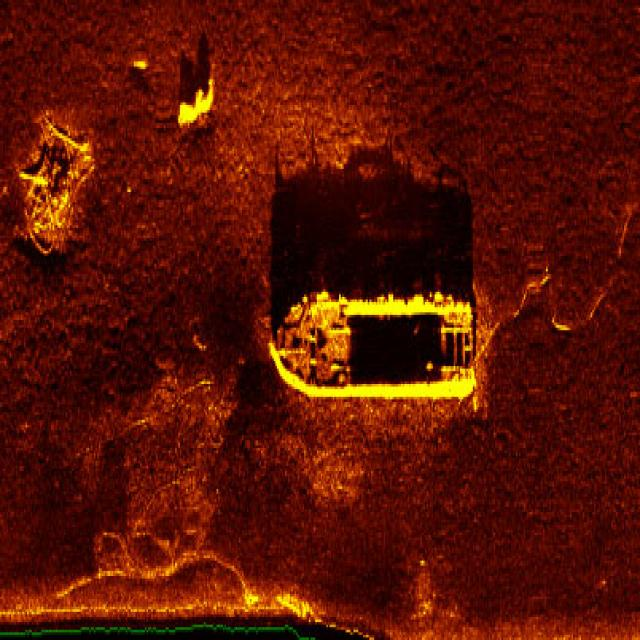ship: (264, 284, 479, 407)
